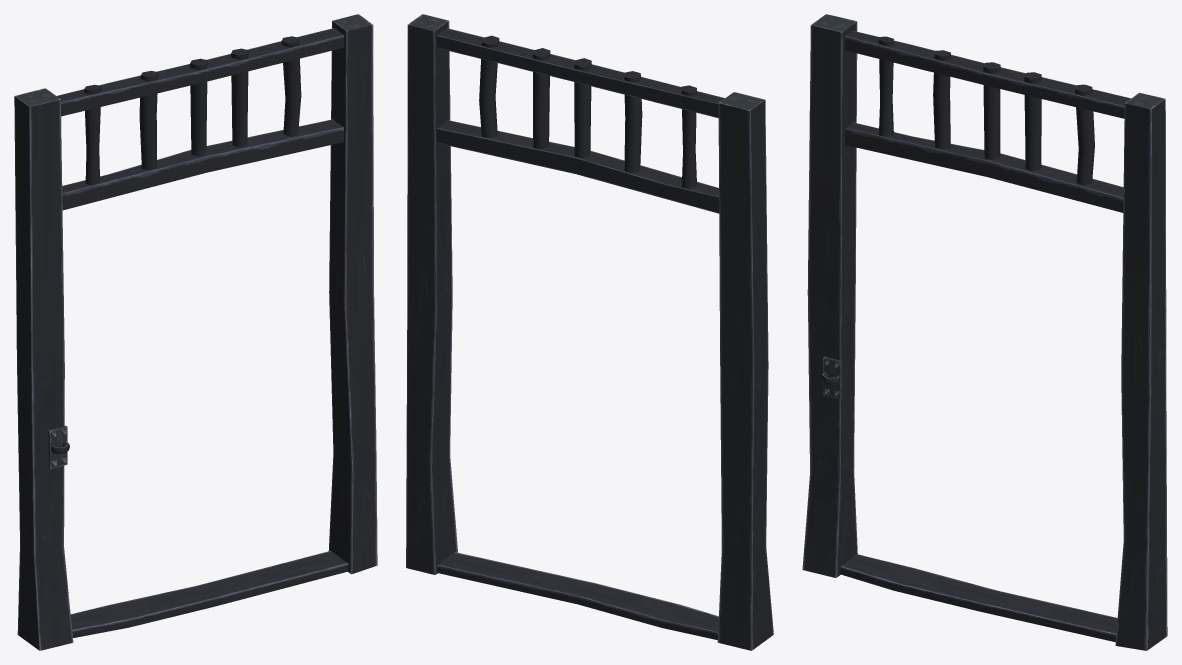
The model's file is SM_PROP_bars_doorway_dungeon_01.fbx.
The picture shows the model from 3 angles, left to right: view 1: azimuth 30°, elevation 25°; view 2: azimuth 150°, elevation 25°; view 3: azimuth 330°, elevation 25°; orthographic projection.
Visible parts, largest first — view 1: SM_PROP_bars_doorway_dungeon_01; view 2: SM_PROP_bars_doorway_dungeon_01; view 3: SM_PROP_bars_doorway_dungeon_01.
Part boxes in pixels (<box>): SM_PROP_bars_doorway_dungeon_01: <box>14,14,377,650</box>; SM_PROP_bars_doorway_dungeon_01: <box>406,14,773,650</box>; SM_PROP_bars_doorway_dungeon_01: <box>802,14,1167,650</box>.
Size of what is drawn, in the model's own units: 201 by 301 by 25.92.
